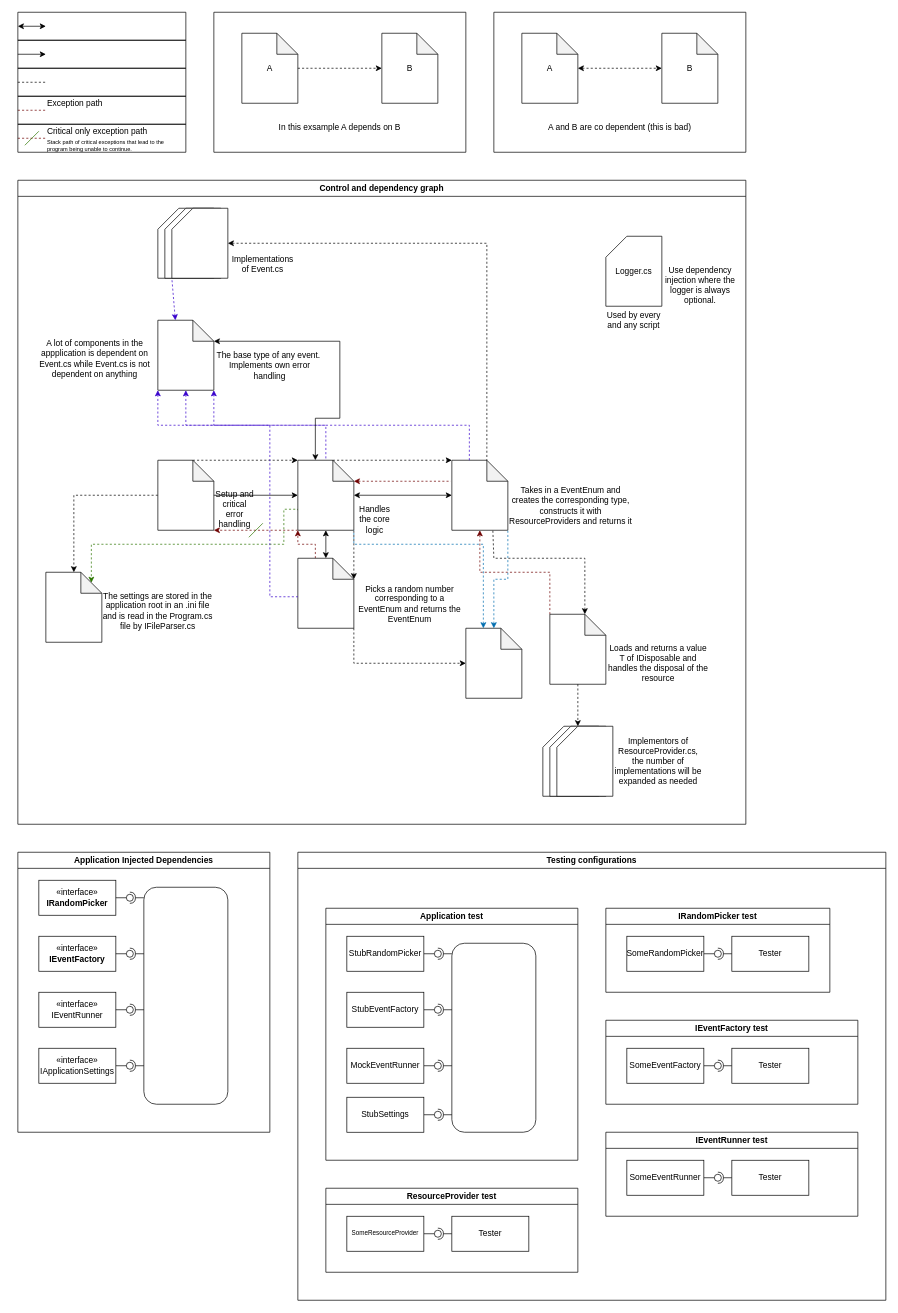
This 898x1313 diagram has some shape labels left out. Each missing label, with the centre of its shape:
"Control flow that does not return" belongs at point (101, 54).
"Control flow that does return" belongs at point (101, 26).
"Dependency" belongs at point (101, 82).
"Event.cs" belongs at point (185, 355).
"EventEnum.cs (enum)" belongs at point (493, 663).
"IApplication" belongs at point (185, 995).
"IApplication.cs" belongs at point (325, 495).
"IApplicationSettings.cs" belongs at point (73, 607).
"IEventFactory.cs" belongs at point (479, 495).
"IRandomPicker.cs (interface)" belongs at point (325, 593).
"Program.cs" belongs at point (185, 495).
"ResourceProvider.cs (Abstract)" belongs at point (577, 649).
"SomeApplication" belongs at point (493, 1037).
"Stack path of thrown exceptions" belongs at point (101, 110).
